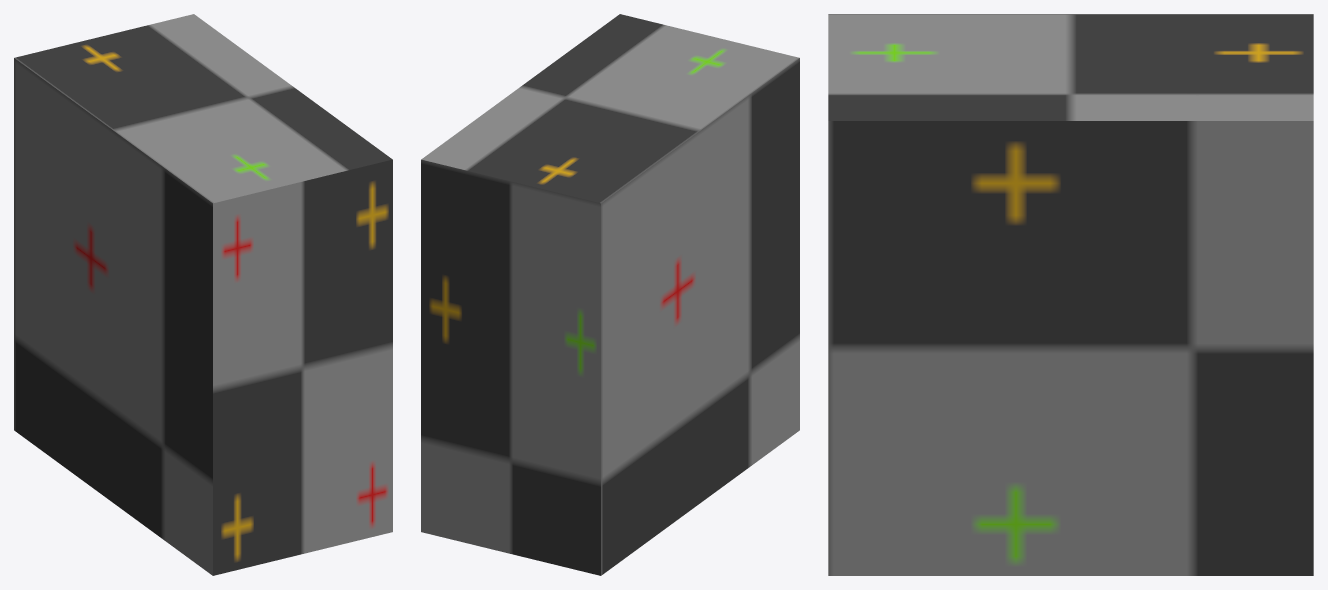
3 renders of one model, left to right at view 1: azimuth 30°, elevation 25°; view 2: azimuth 150°, elevation 25°; view 3: azimuth 270°, elevation 25°, orthographic. The views are drawn at different scales.
Parts seen in each view (by area): view 1: Cube_031; view 2: Cube_031; view 3: Cube_031.
Part boxes in pixels (x1=…): Cube_031: x1=14, y1=14, x2=392, y2=575; Cube_031: x1=421, y1=14, x2=799, y2=575; Cube_031: x1=828, y1=14, x2=1313, y2=575.
Size of the model in its own units: 0.6315 by 1.25 by 1.21.
Materials: 1 (1 with a texture image).
